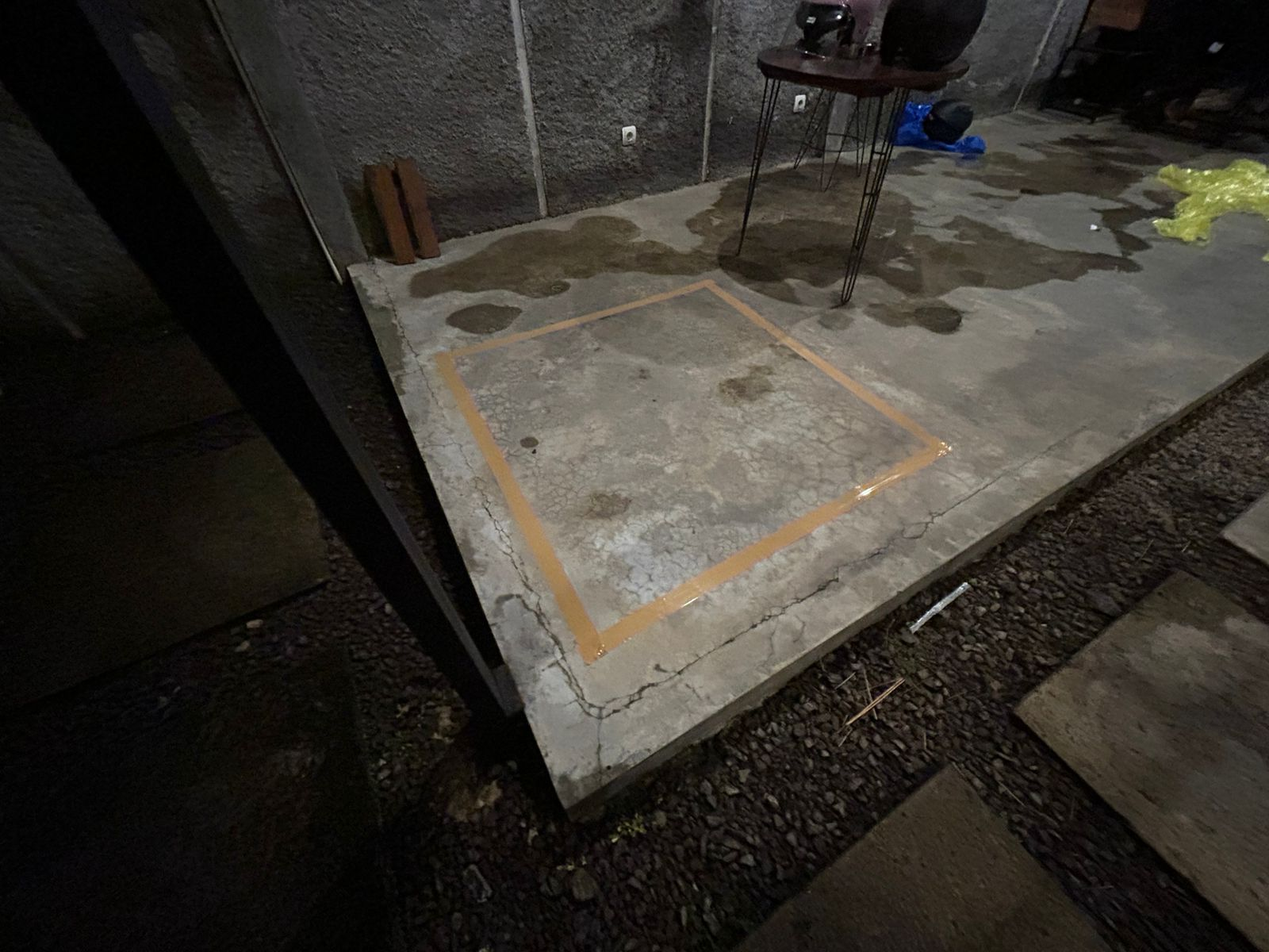floor marking: (434, 280, 950, 663)
